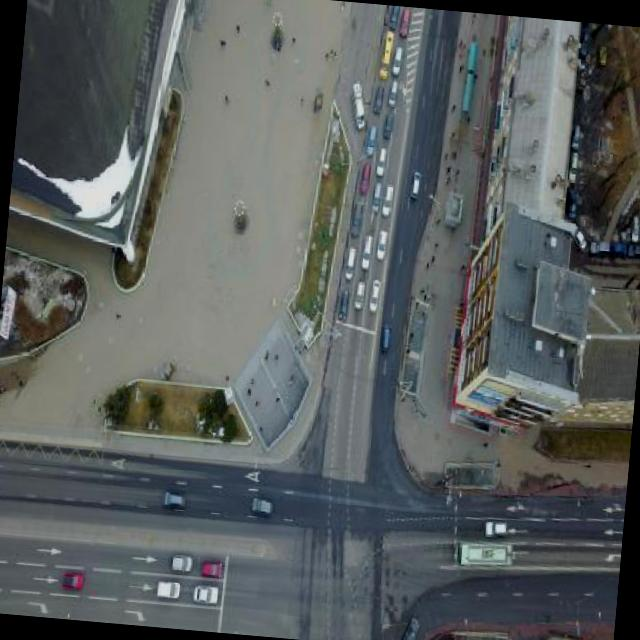bus: (348, 79, 368, 134), (377, 29, 395, 80)
car: (370, 179, 398, 217), (190, 580, 223, 608), (58, 564, 86, 594), (154, 577, 185, 603), (197, 554, 227, 580), (356, 157, 374, 198), (168, 550, 196, 576), (346, 196, 363, 236), (395, 615, 421, 640), (388, 44, 406, 80), (482, 516, 511, 538), (248, 492, 274, 516), (160, 487, 186, 510), (406, 169, 424, 201), (368, 277, 384, 313), (360, 232, 374, 272), (374, 228, 389, 264), (384, 5, 403, 32), (362, 125, 378, 156), (335, 286, 350, 319), (371, 81, 385, 115), (344, 245, 356, 282), (352, 279, 366, 310), (381, 320, 394, 352), (381, 114, 395, 140), (375, 146, 387, 176), (388, 81, 400, 106)
